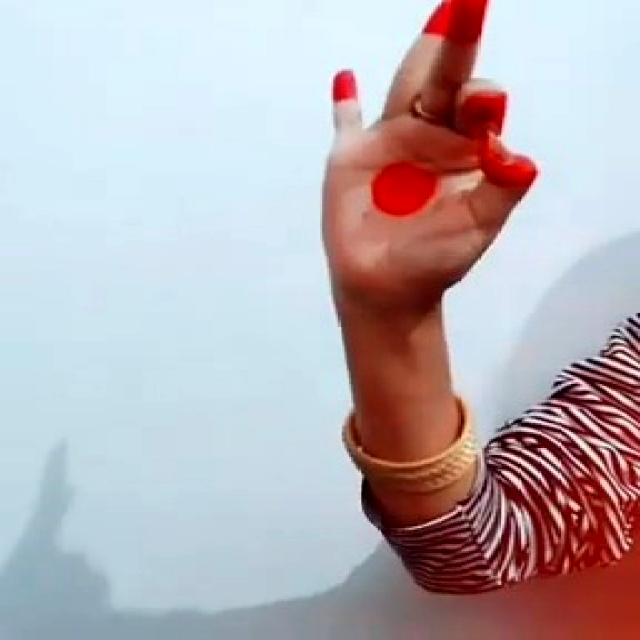Hamsasya: (307, 0, 578, 304)
bangle: (313, 386, 497, 498)
